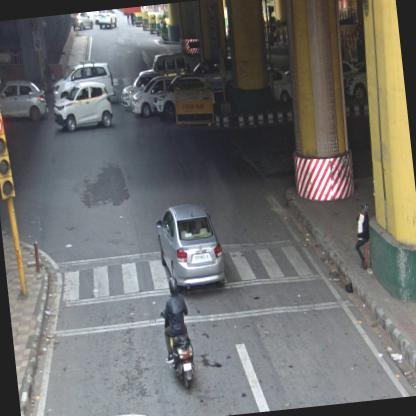car: (153, 198, 226, 296), (51, 81, 113, 134), (50, 58, 114, 104), (152, 73, 216, 118), (0, 77, 50, 127), (128, 72, 180, 118), (70, 11, 94, 31), (97, 8, 118, 30)
motorcycle: (154, 274, 197, 392)
